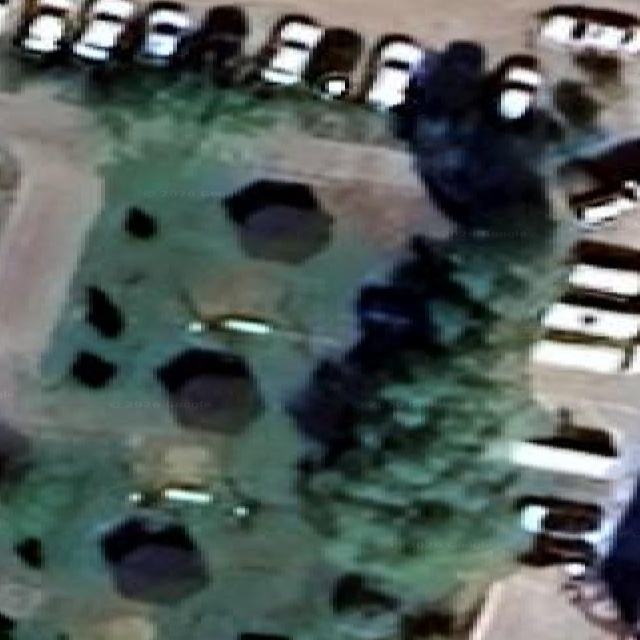car: (520, 497, 615, 561), (537, 5, 639, 57), (186, 5, 248, 85), (304, 27, 363, 99), (365, 38, 423, 110), (261, 18, 322, 86), (72, 0, 135, 65), (136, 0, 193, 66), (14, 0, 75, 61), (569, 180, 639, 229), (494, 54, 543, 120), (0, 0, 15, 34)
